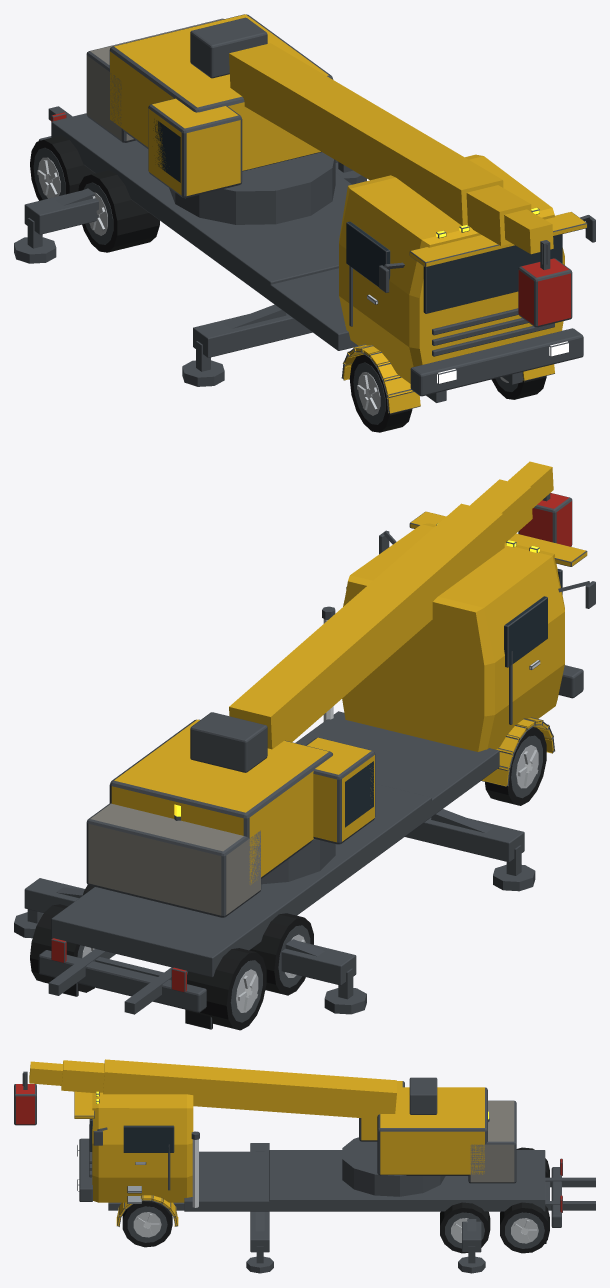
File: veh_crane_truck.glb
3 renders of one model, top to bottom at view 1: azimuth 30°, elevation 25°; view 2: azimuth 150°, elevation 25°; view 3: azimuth 270°, elevation 25°, orthographic. The views are drawn at different scales.
Visible parts, largest first — view 1: veh_crane_truck; view 2: veh_crane_truck; view 3: veh_crane_truck.
Boxes of the visible parts, x1,y1,x2,y2 form: veh_crane_truck: [14, 14, 595, 432]; veh_crane_truck: [14, 461, 595, 1030]; veh_crane_truck: [14, 1059, 595, 1273].
Size of the model in its own units: 5.5 by 3.8 by 12.65.
